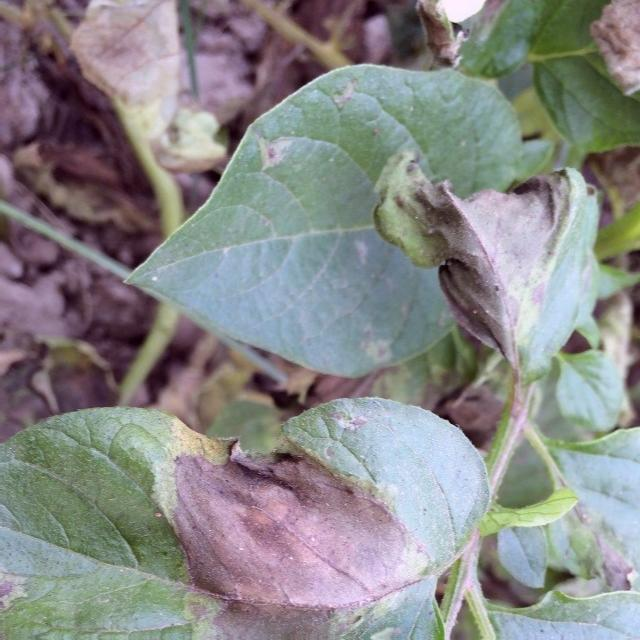Tomato leaf late blight: (132, 384, 513, 625), (381, 158, 614, 391)
